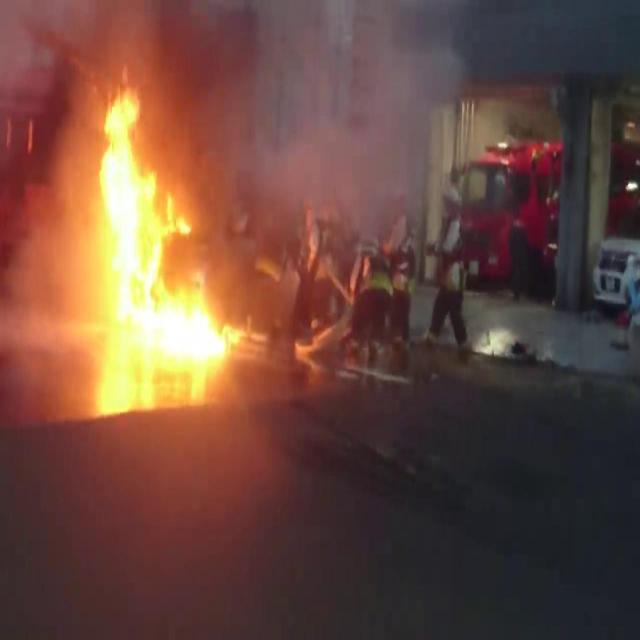fire: (85, 66, 260, 378)
